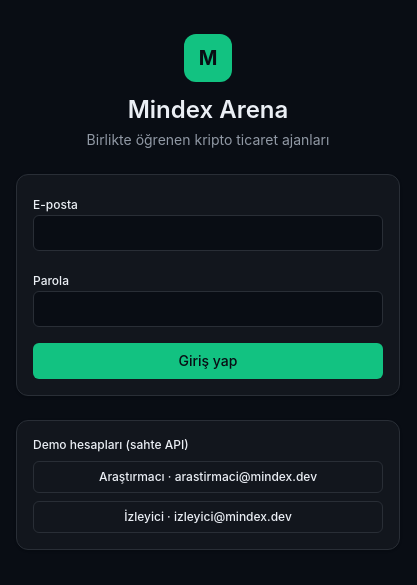
Test case: login (F1) › rejects wrong credentials
Type "arastirmaci@mindex.dev" into the field labelled "E-posta". click: (208, 233)
box: [33,215,383,251]
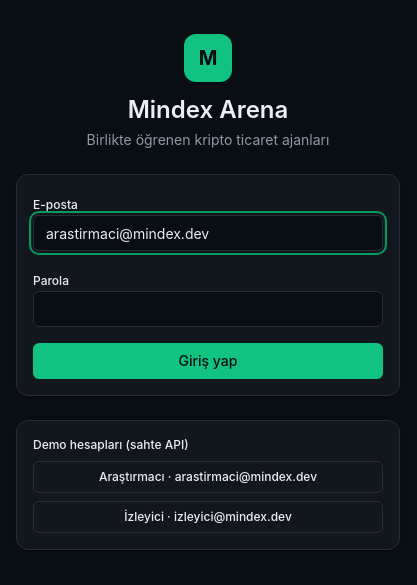
Type "yanlis-parola" into the password field labelled "Parola". click: (208, 309)
box: [33,291,383,327]
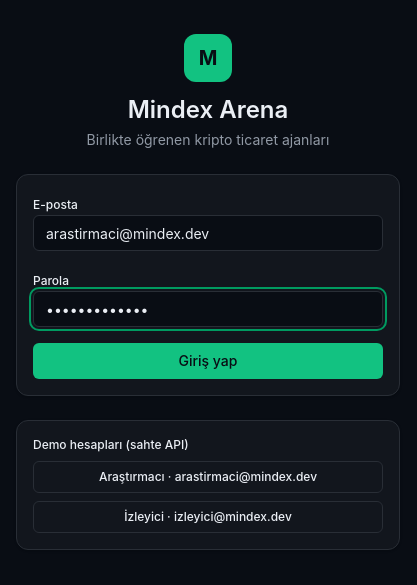
Click the button "Giriş yap". click: (208, 361)
box: [33,343,383,379]
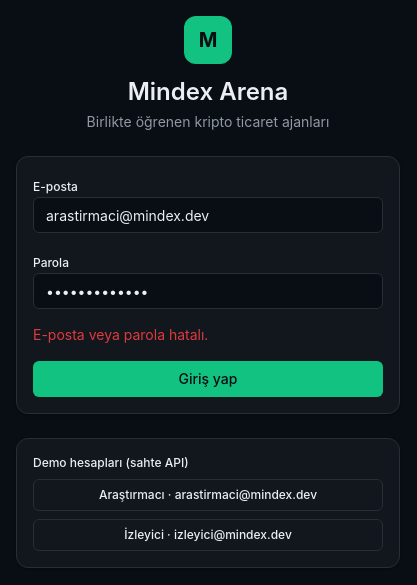
Now the text "E-posta veya parola hatalı." is shown, box [33,326,208,343]
